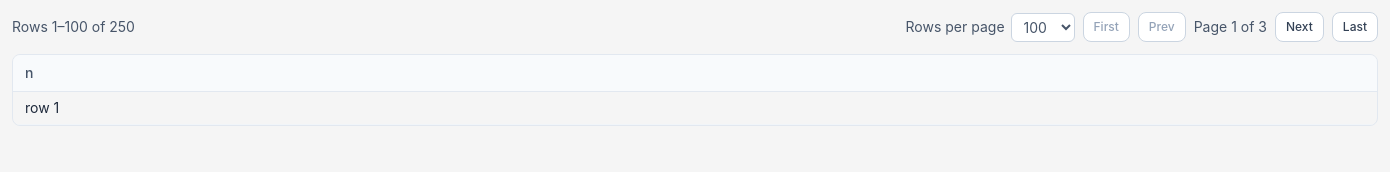
Scenario: pages through every row of a table
Check: the text "row 1" is shown, box [13,92,1377,124]
Check: the text "Rows 1–100 of 250" is shown, box [12,17,135,37]
Click the button "Last" at [1355, 27], box [1332,12,1378,42]
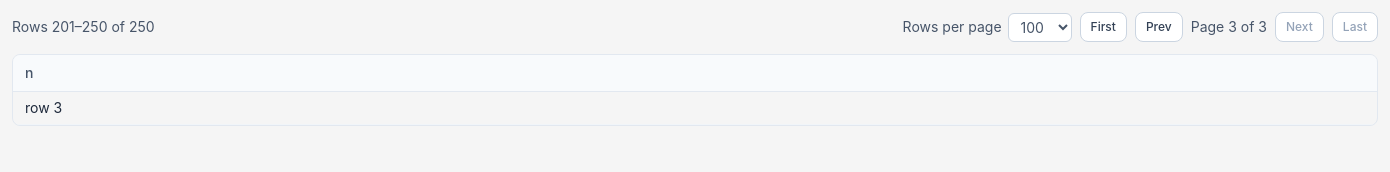
Check: the text "row 3" is shown, box [13,92,1377,124]
Check: the text "Rows 201–250 of 250" is shown, box [12,17,155,37]
Check: the button "Next" is disabled, box [1275,12,1324,42]
